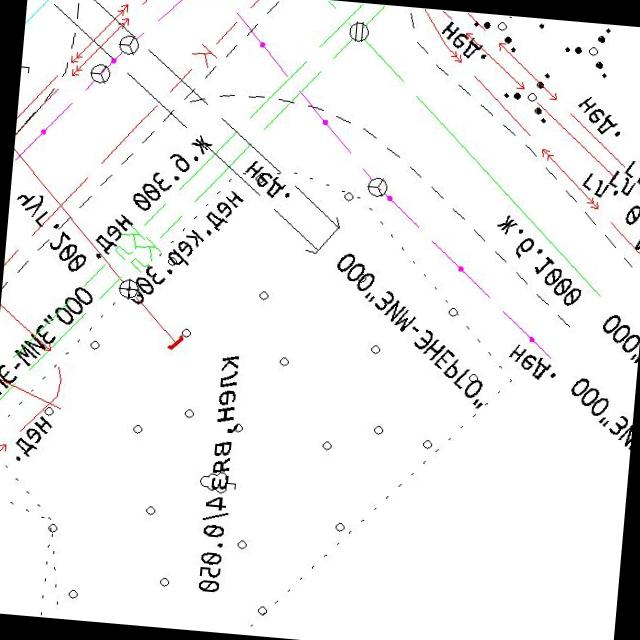bushes: (560, 24, 613, 80), (498, 69, 550, 125)
well: (364, 173, 392, 200), (346, 19, 372, 46), (115, 32, 142, 58), (87, 59, 113, 86), (115, 275, 142, 301)
